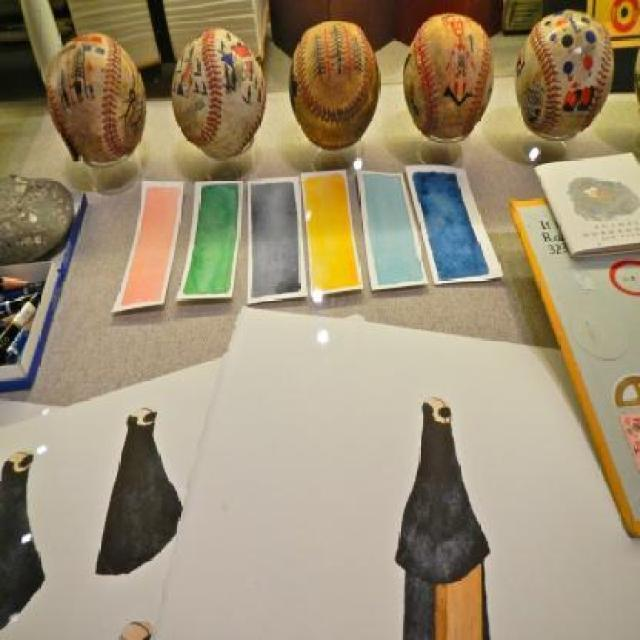-: (160, 26, 277, 168), (45, 23, 147, 169), (282, 29, 389, 160), (511, 23, 618, 149), (397, 16, 498, 149)
